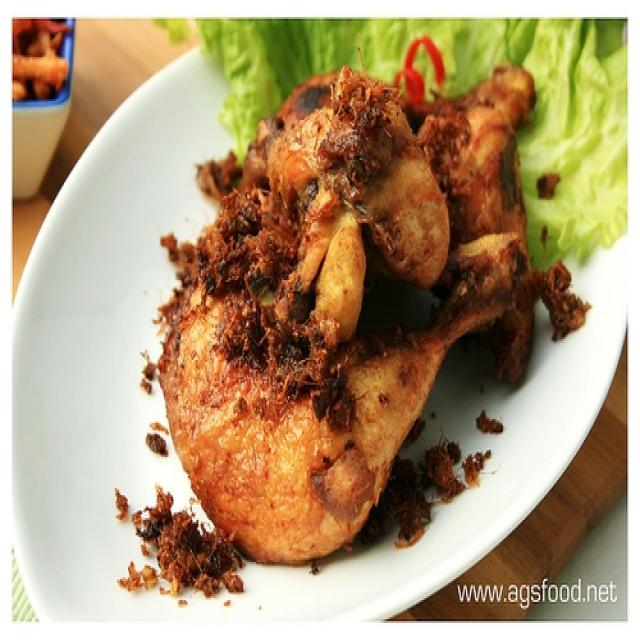鸡肉料理 含炸鸡: (132, 42, 563, 575)
